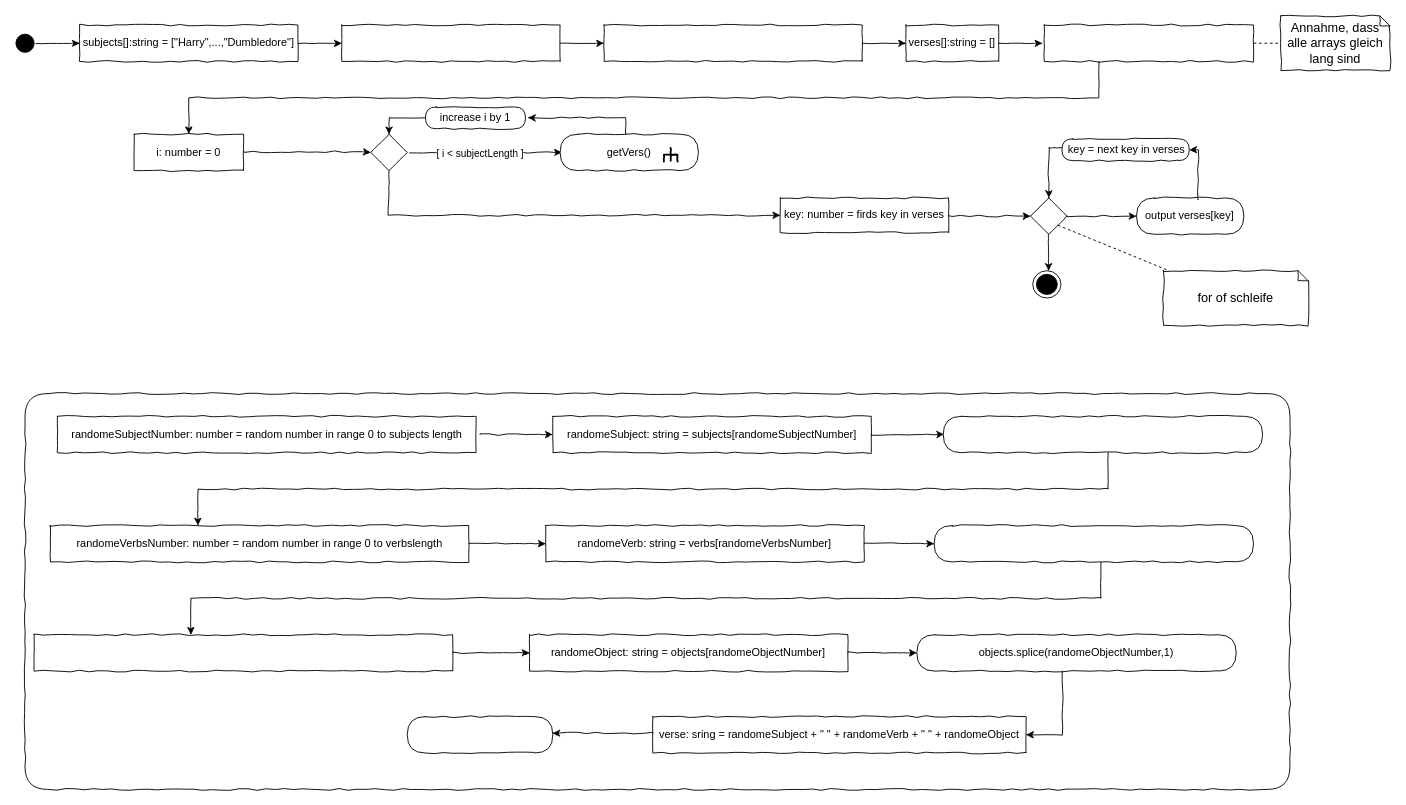
Image size: 1406x805. Some labels were removed from this diagram. The box of each missing label's shape, as (x1, y1, x2, y2) in pixels:
getVerse: (24, 393, 1290, 789)
objects[]: string = ["Zaubertränke",...,"Dementoren"]: (603, 24, 862, 61)
push verse into verses: (406, 716, 553, 753)
randomeObjectNumber: number = random number in range 0 to objectslength: (33, 634, 453, 671)
subjectLength:number = subject länge: (1043, 24, 1254, 61)
subjects.splice(randomeSubjectNumber,1): (942, 415, 1263, 453)
verbs.splice(randomeVerbsNumber,1): (933, 525, 1254, 562)
verbs[]: string = ["braut",...,"zerstört"]: (341, 24, 560, 61)
